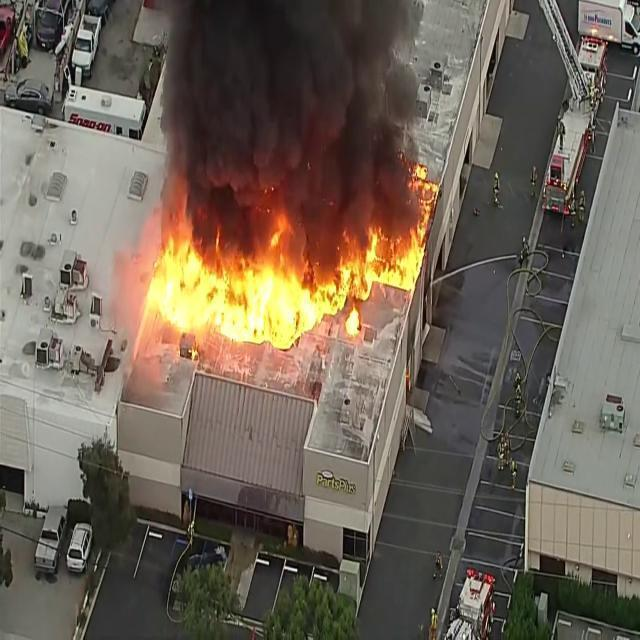Fire: (212, 245, 316, 352), (319, 233, 426, 328), (155, 227, 217, 342)
Smoke: (148, 0, 417, 214)
